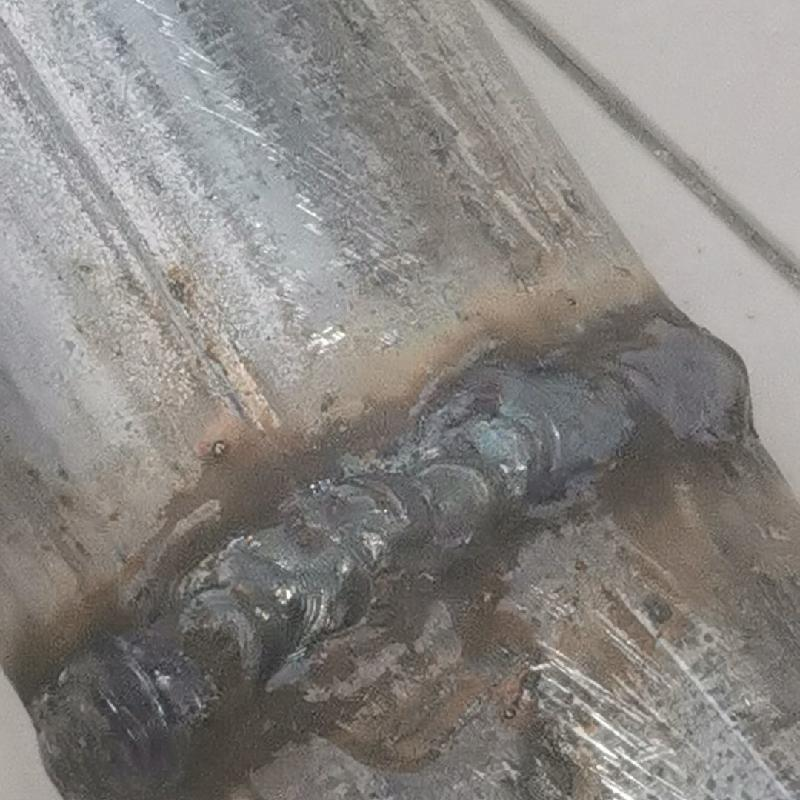good: (2, 312, 753, 789)
